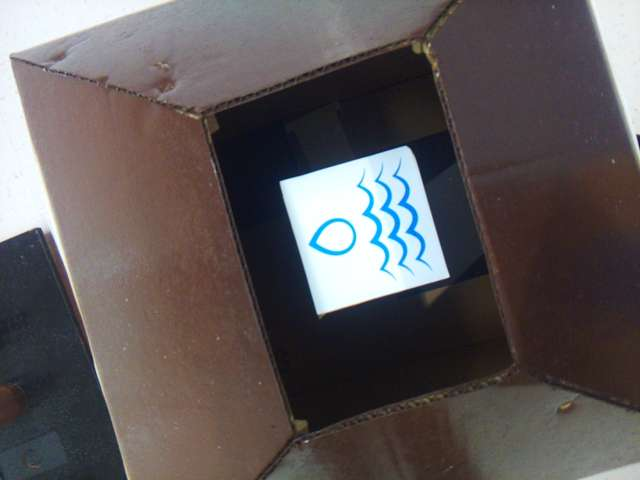water_barn: (281, 145, 448, 313)
